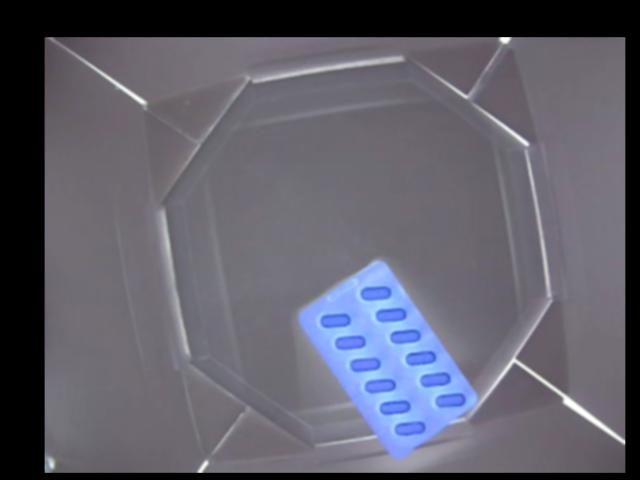Medicine: (298, 255, 476, 460)
